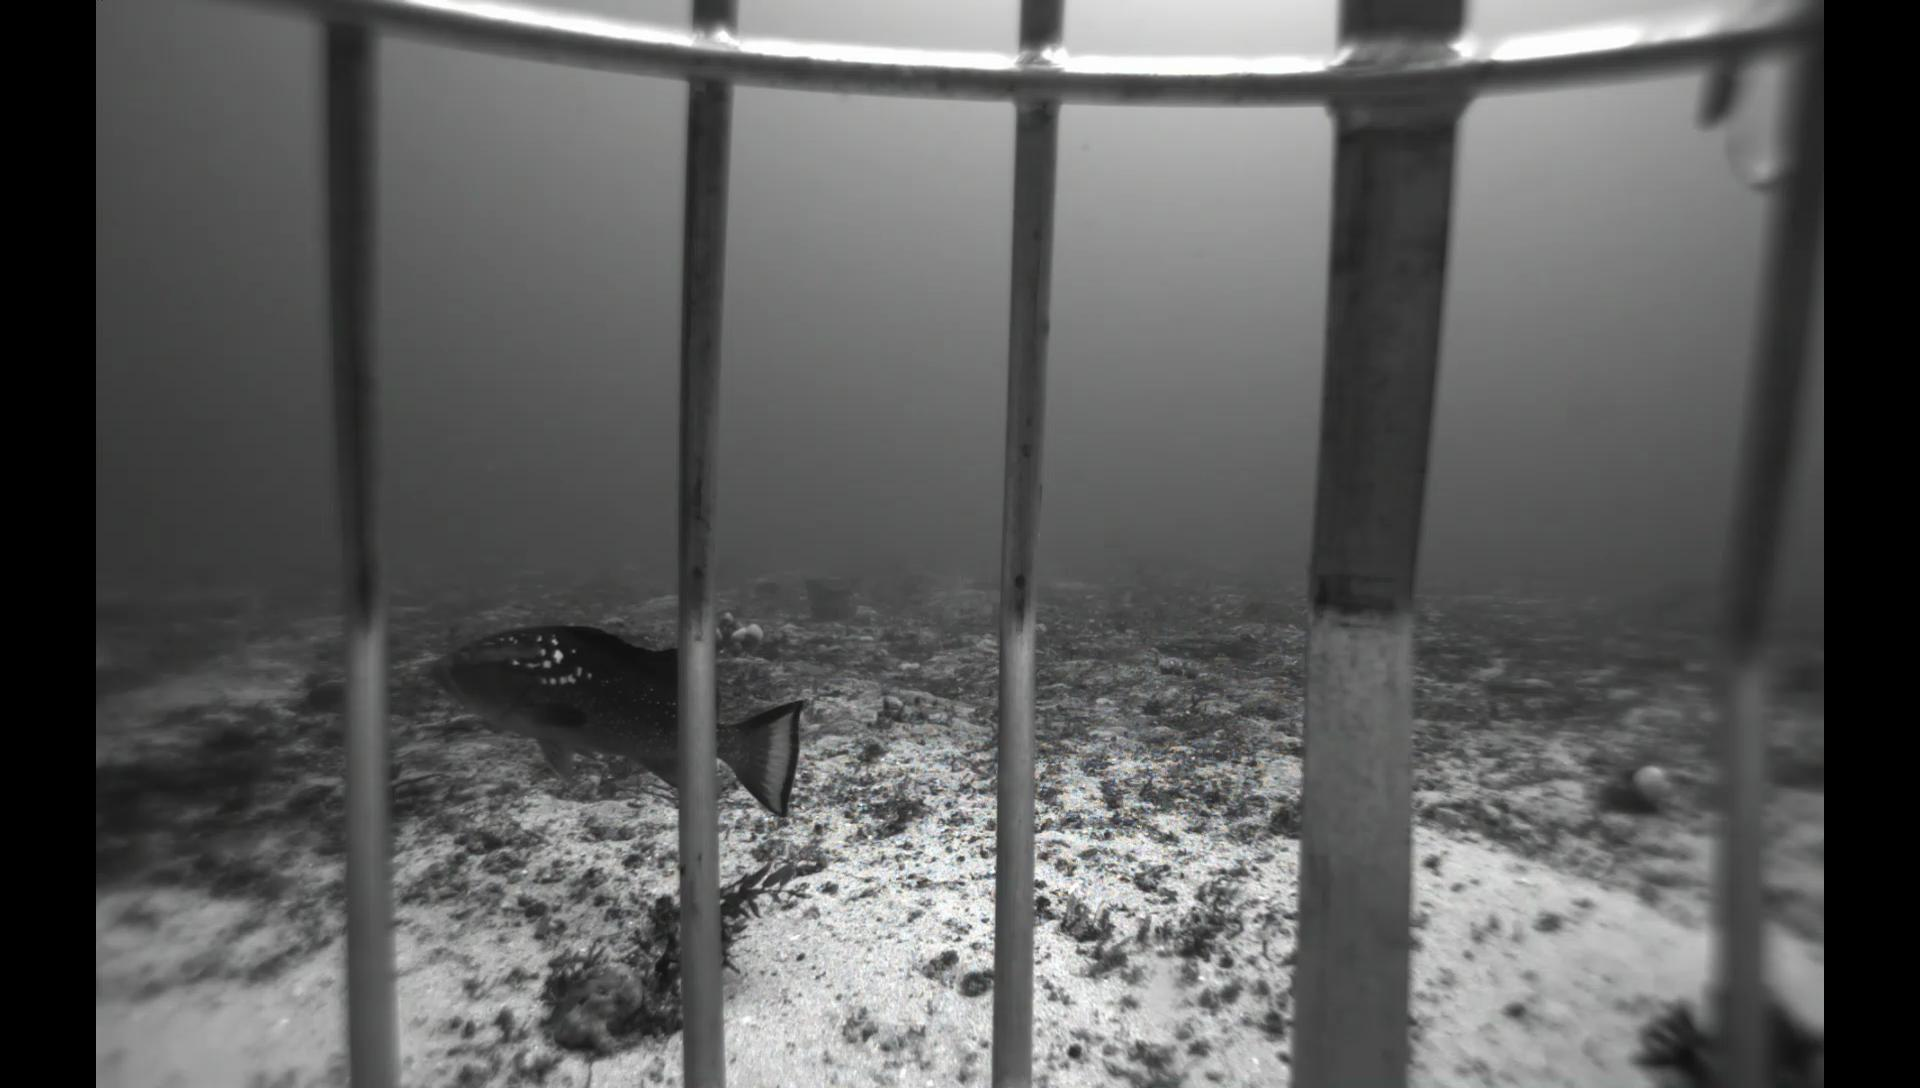CHAETODONOCELLATUS-170260307: (1110, 582, 1145, 608), (965, 597, 1000, 619)
EPINEPHELUSMORIO-170021211: (415, 608, 827, 835)
PRISTIGENYSALTA-170050401: (291, 677, 342, 720)
